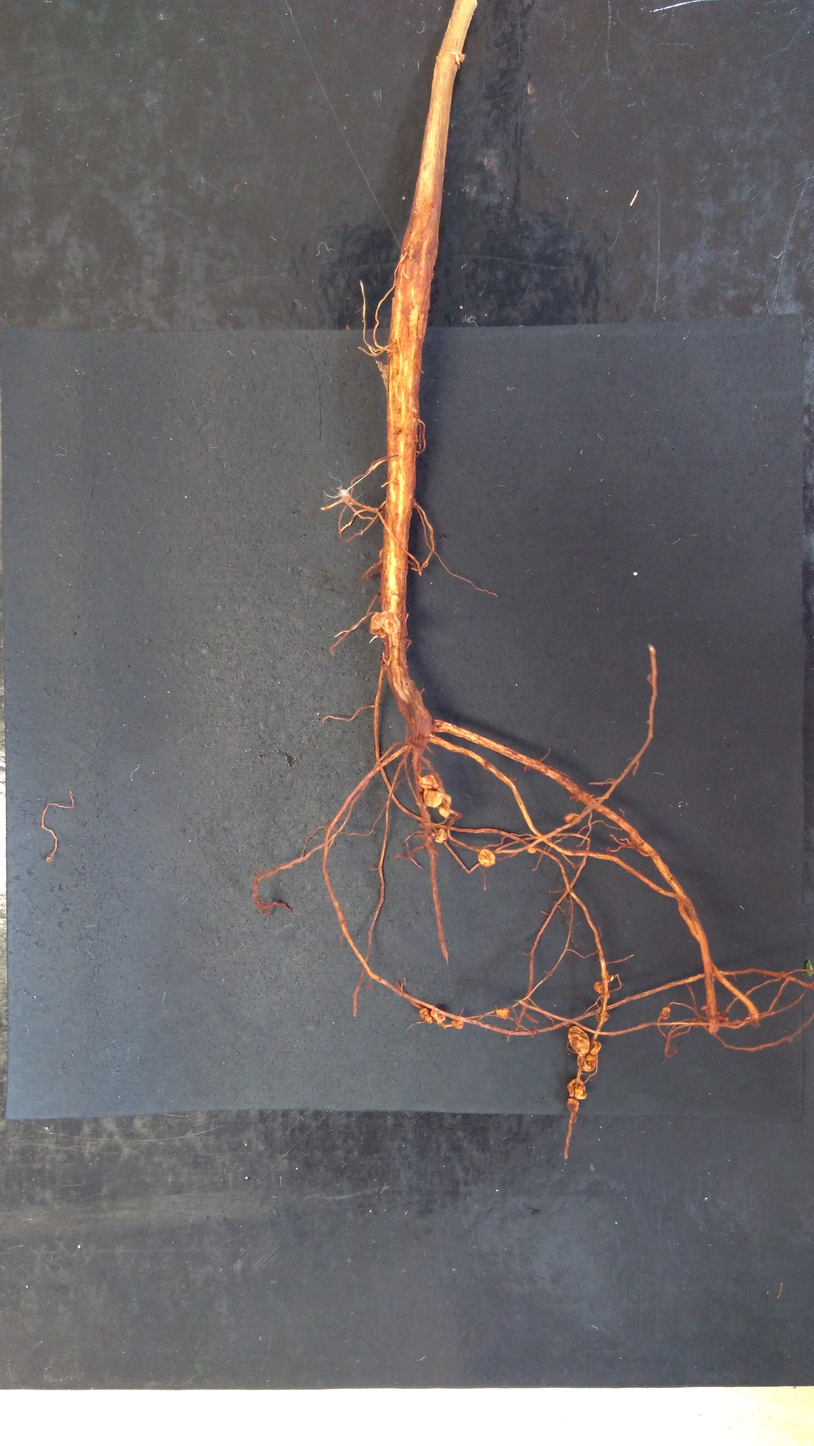nodule: (366, 611, 403, 639), (566, 1024, 591, 1057), (576, 1048, 598, 1073), (566, 1078, 588, 1100), (421, 789, 444, 809), (477, 848, 497, 868), (418, 773, 440, 791), (430, 1007, 446, 1025), (565, 1097, 581, 1114), (595, 1006, 610, 1023), (434, 828, 449, 844), (437, 804, 453, 819), (562, 812, 581, 824), (449, 1017, 466, 1030), (441, 791, 453, 809), (495, 1008, 512, 1020), (591, 1040, 604, 1055), (659, 1006, 672, 1020), (593, 981, 605, 995), (418, 1007, 430, 1019), (423, 1014, 434, 1025), (526, 846, 538, 855)
